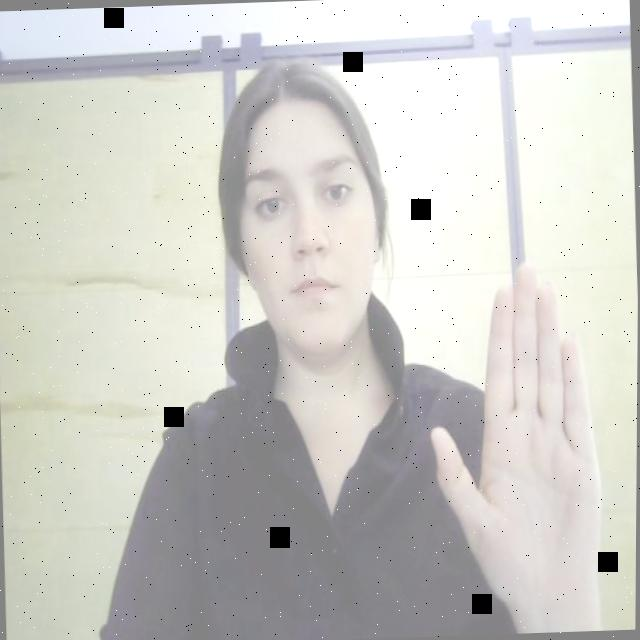Paper: (421, 239, 639, 628)
